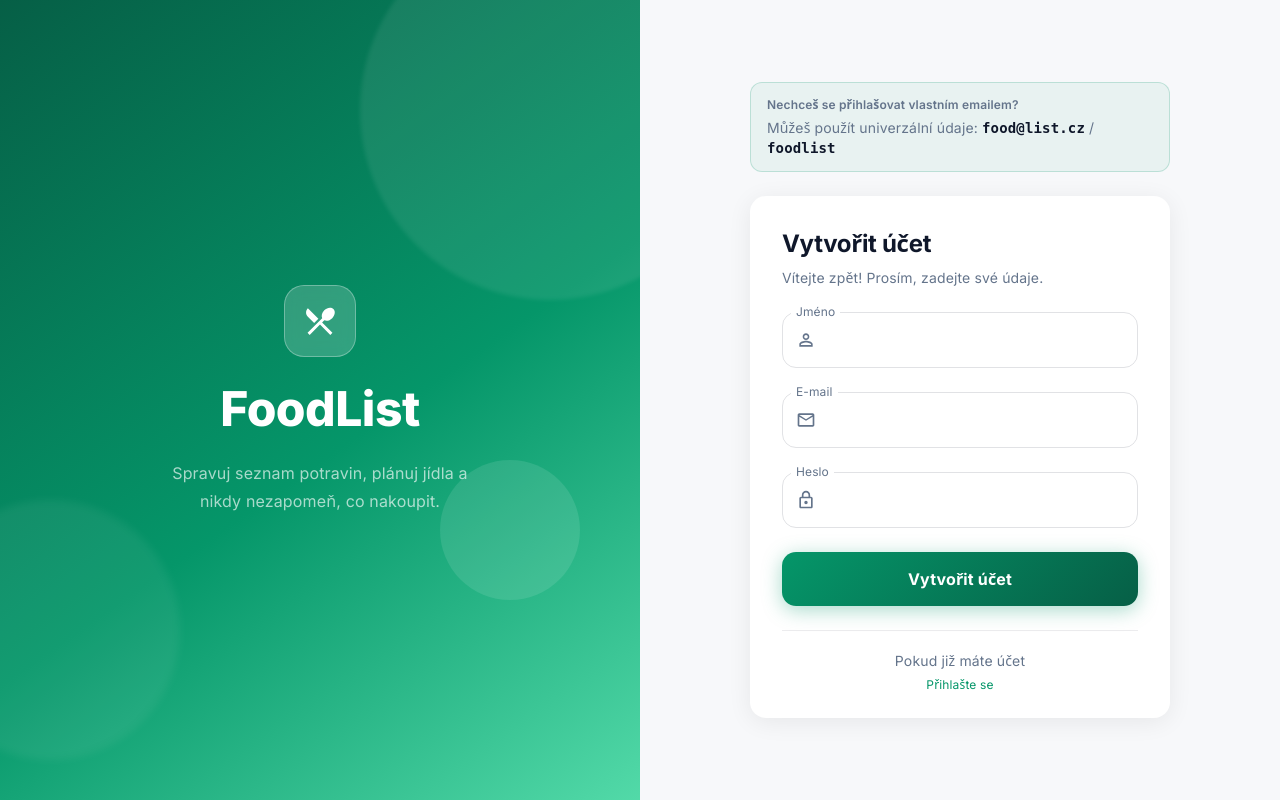
Test: AuthForm – Registrace › should redirect to /auth and show success notification after successful registration
Simulace vyplnění – fireEvent.change nastaví value a vyvolá re-render
In the field labelled "Jméno": x=982, y=340 [826,312,1138,368], type "Test User"
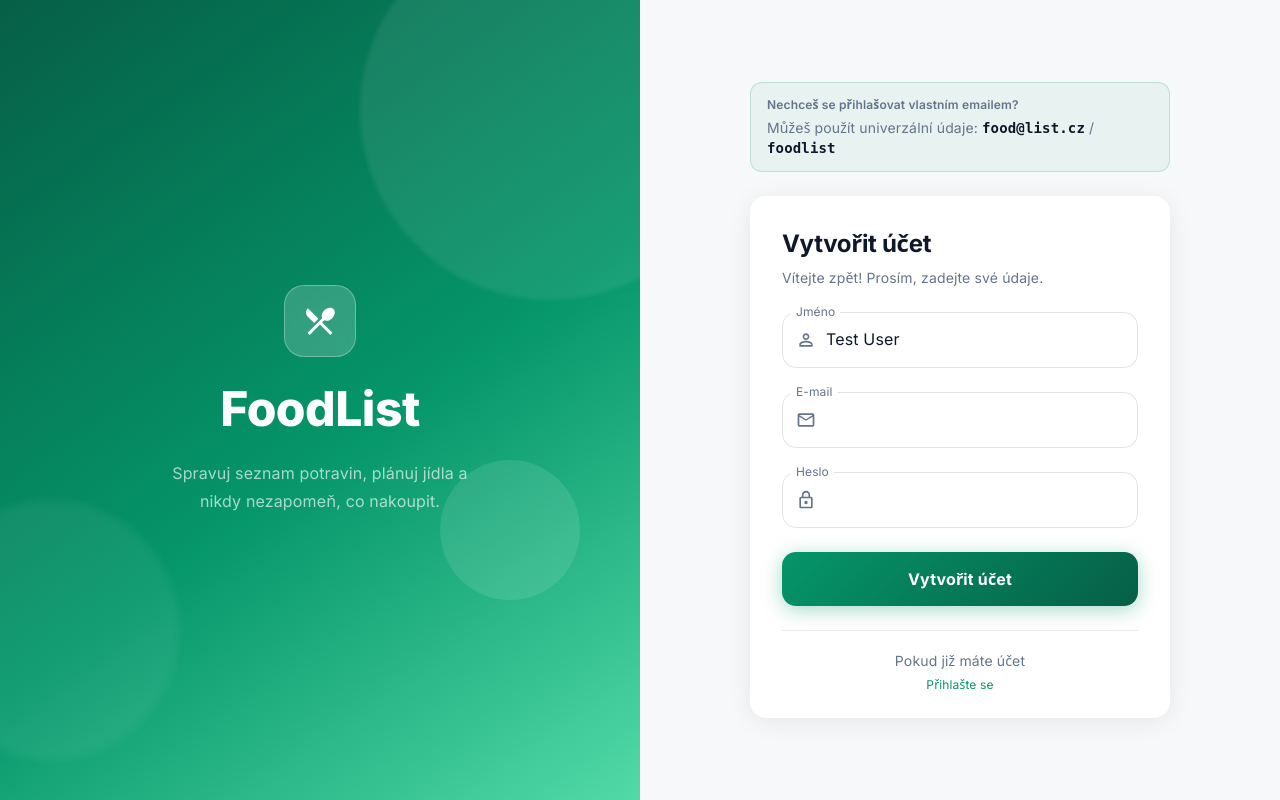
In the field labelled "E-mail": x=982, y=420 [826,392,1138,448], type "test@example.com"
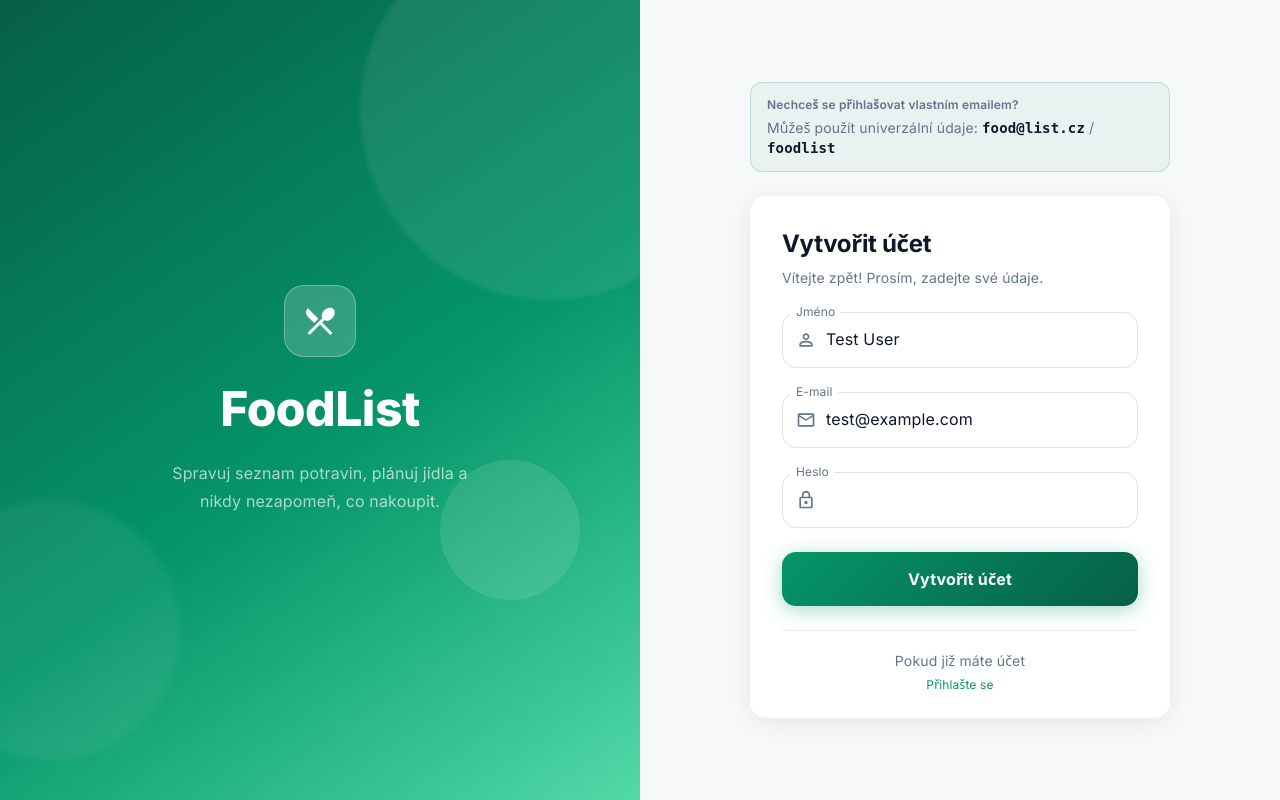
In the password field labelled "Heslo": x=982, y=500 [826,472,1138,528], type "heslo123"
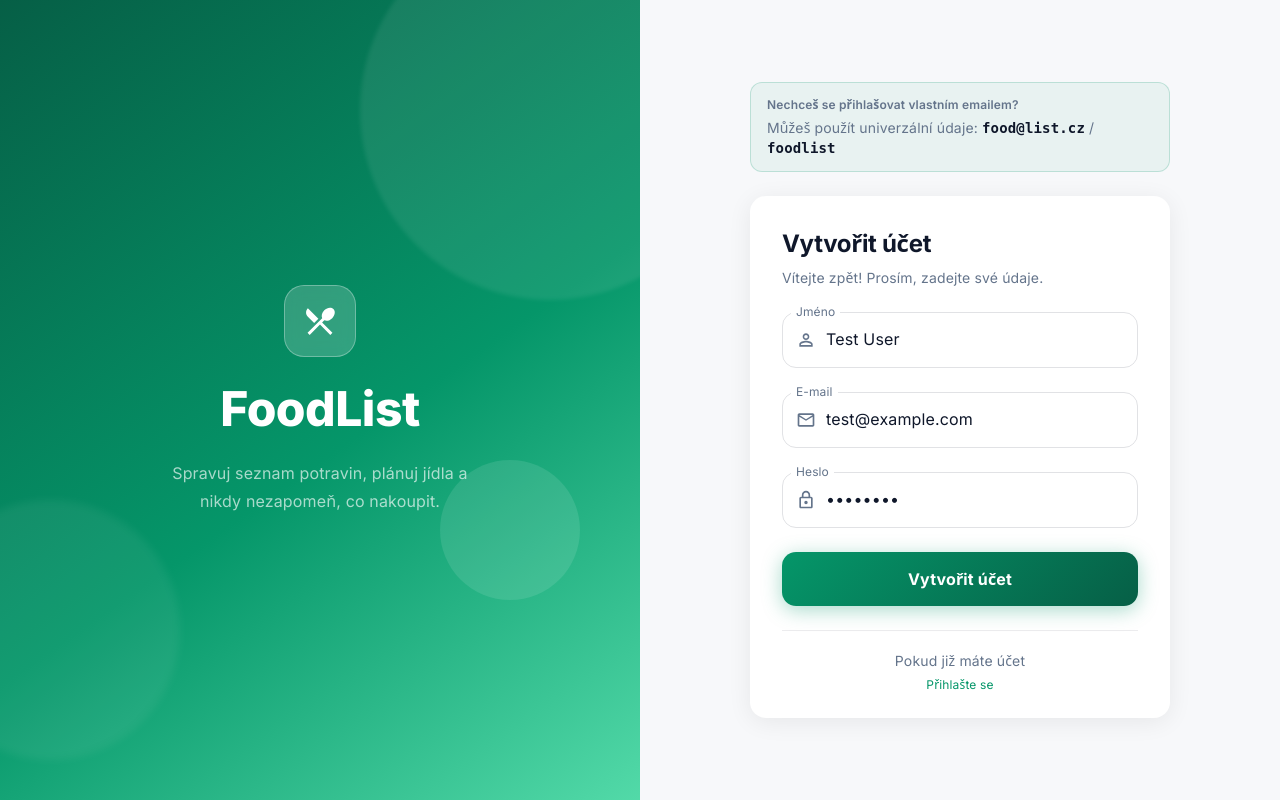
Click the button "Vytvořit účet": x=960, y=579 [782,552,1138,606]
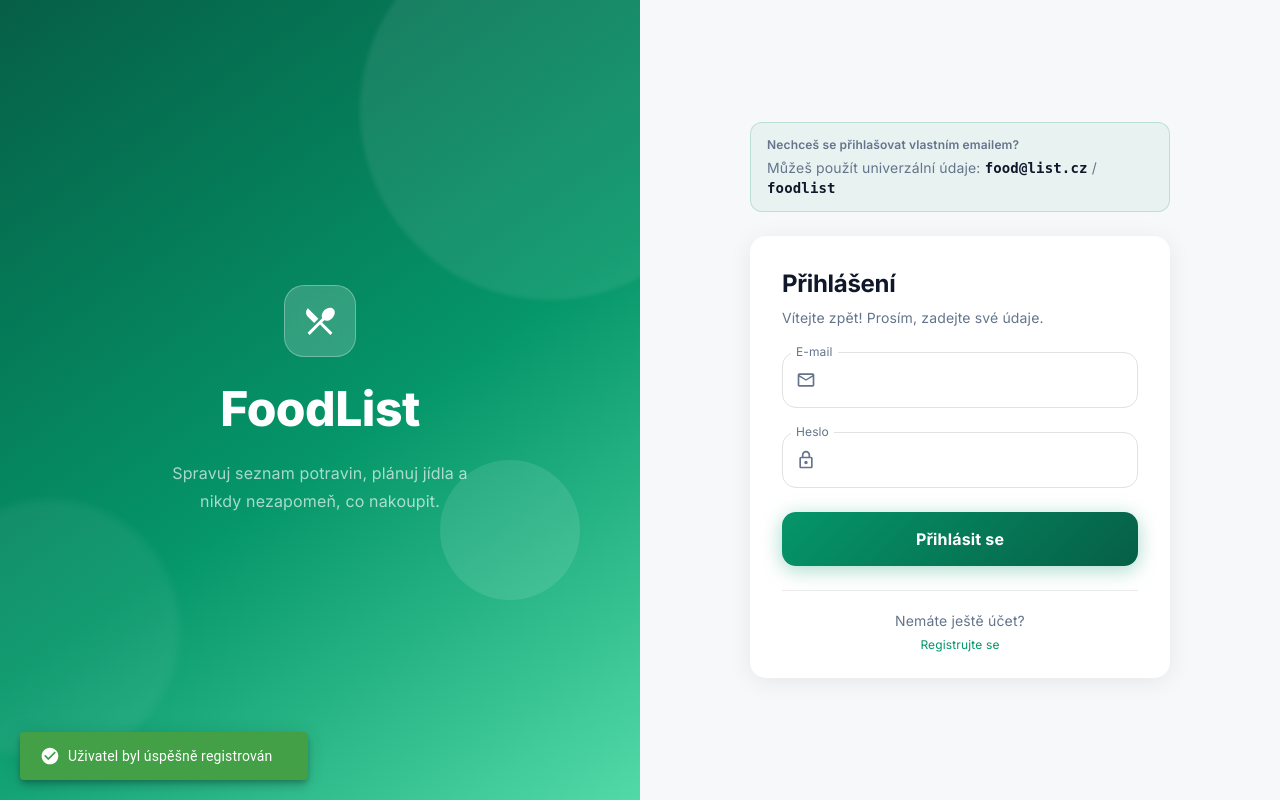
Expected: the text "Uživatel byl úspěšně registrován" is shown, [40,746,272,766]
